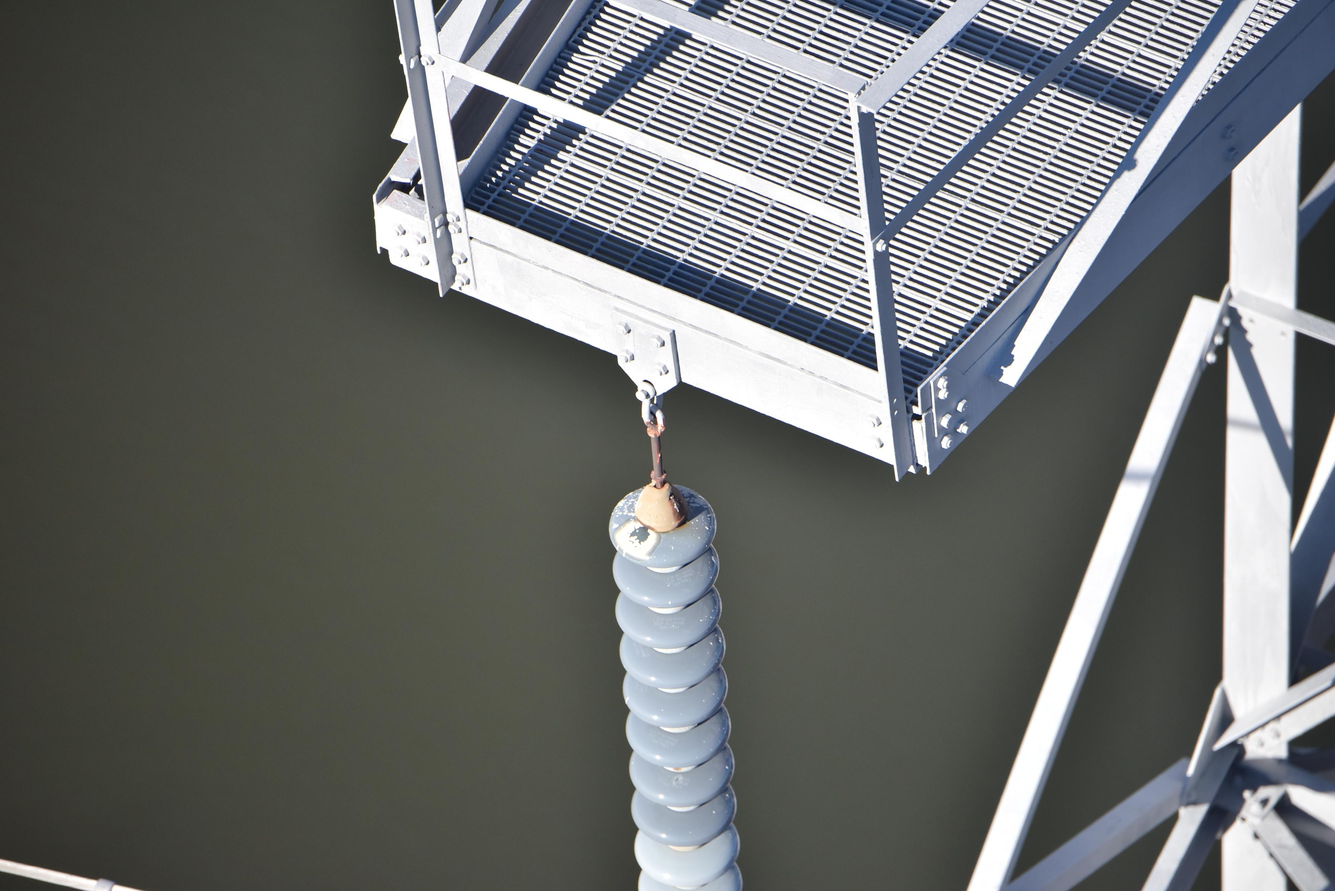Flashover: (613, 516, 659, 559)
insulator: (608, 486, 745, 891)
